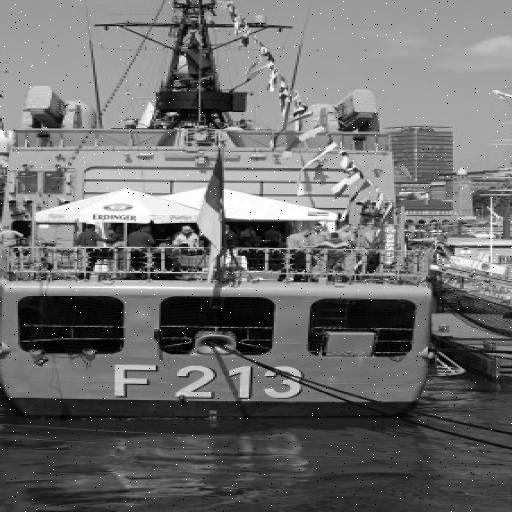Fragata: (1, 1, 454, 424)
